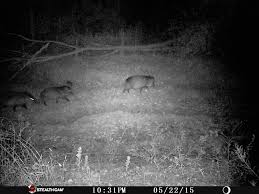javelina: (120, 72, 161, 97), (39, 84, 80, 108), (5, 92, 37, 115)
